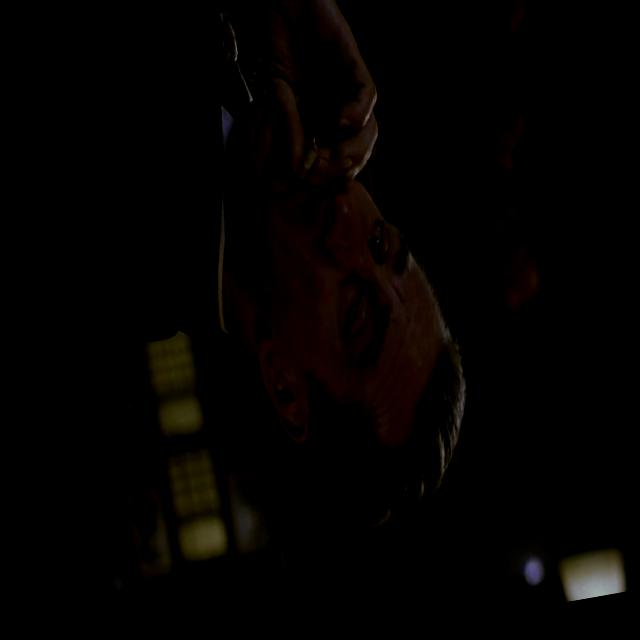cigarette: (291, 134, 326, 184)
